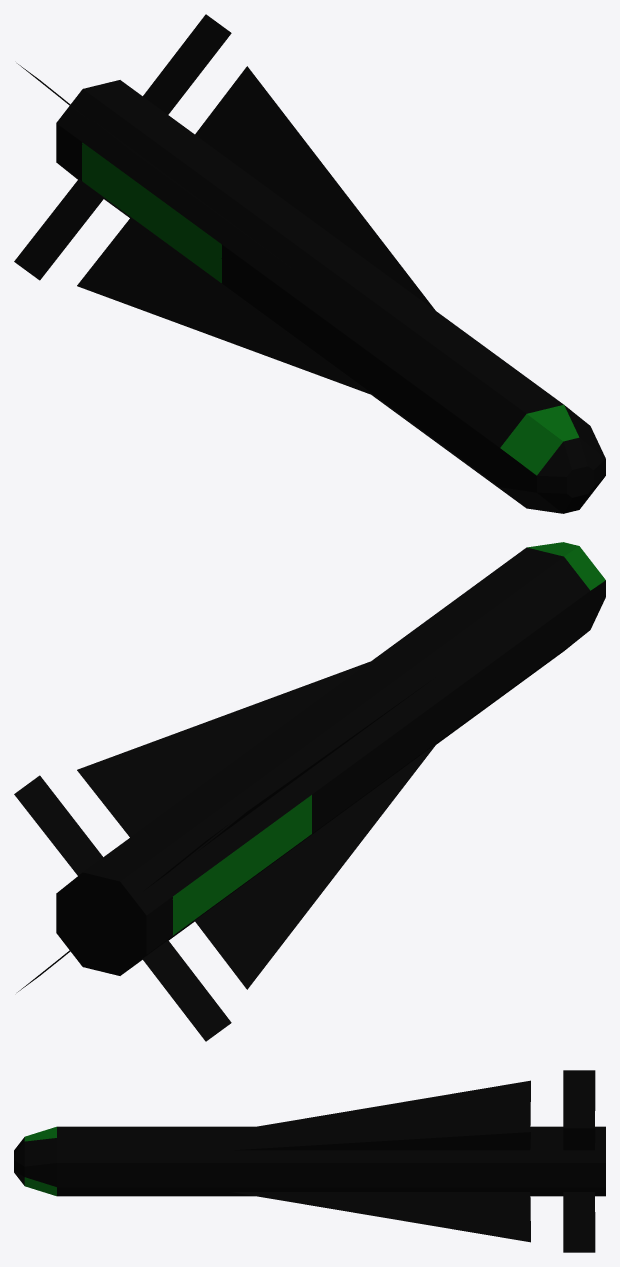
File: agm65l.obj
The picture shows the model from 3 angles, top to bottom: view 1: azimuth 30°, elevation 25°; view 2: azimuth 150°, elevation 25°; view 3: azimuth 270°, elevation 25°; orthographic projection. The views are drawn at different scales.
Visible parts, largest first — view 1: cylinder, plane16, plane14, cylinder17, plane10, plane; view 2: cylinder, plane16, plane14, plane10, plane, cylinder17; view 3: cylinder, plane15, plane13, plane14, cylinder17, plane11, plane12, plane.
Part boxes in pixels (x1,y1,x2,y2): cylinder: [56, 80, 563, 506]; plane16: [77, 218, 372, 395]; plane14: [195, 66, 435, 310]; cylinder17: [500, 405, 605, 513]; plane10: [14, 179, 103, 280]; plane: [143, 14, 231, 114]; cylinder: [56, 547, 590, 975]; plane16: [195, 743, 436, 989]; plane14: [77, 662, 369, 837]; plane10: [142, 940, 231, 1041]; plane: [14, 775, 102, 875]; cylinder17: [527, 542, 605, 628]; cylinder: [57, 1126, 605, 1196]; plane15: [232, 1192, 530, 1242]; plane13: [257, 1080, 530, 1126]; plane14: [234, 1132, 530, 1150]; cylinder17: [14, 1126, 56, 1196]; plane11: [563, 1192, 595, 1252]; plane12: [563, 1070, 595, 1126]; plane: [563, 1128, 595, 1150].
Size of the model in its own units: 0.7955 by 0.7955 by 3.44.
